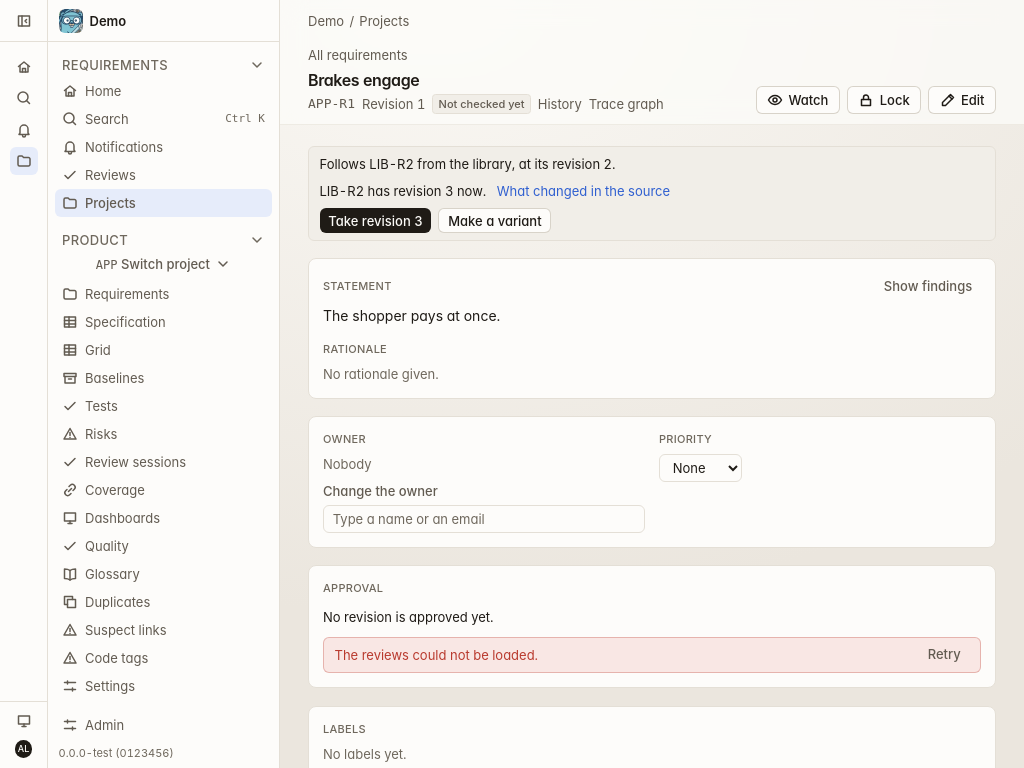
a reused requirement › is edited without its words while it follows, and made a variant to change them
The width and height of the screenshot is (1024, 768).
Click the button "Edit" at (962, 100), box x1=928 y1=86 x2=996 y2=114
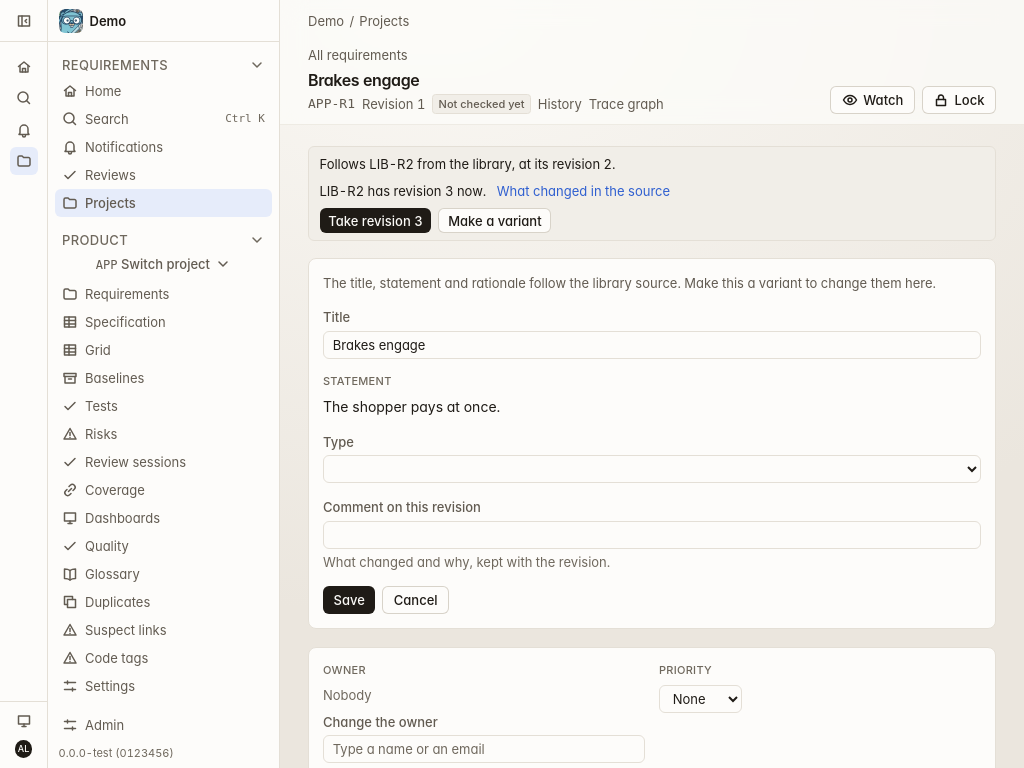
Result: the text "follow the library source" is shown at x1=323 y1=275 x2=936 y2=291
Click the button "Cancel" at (416, 600), box x1=382 y1=586 x2=449 y2=614
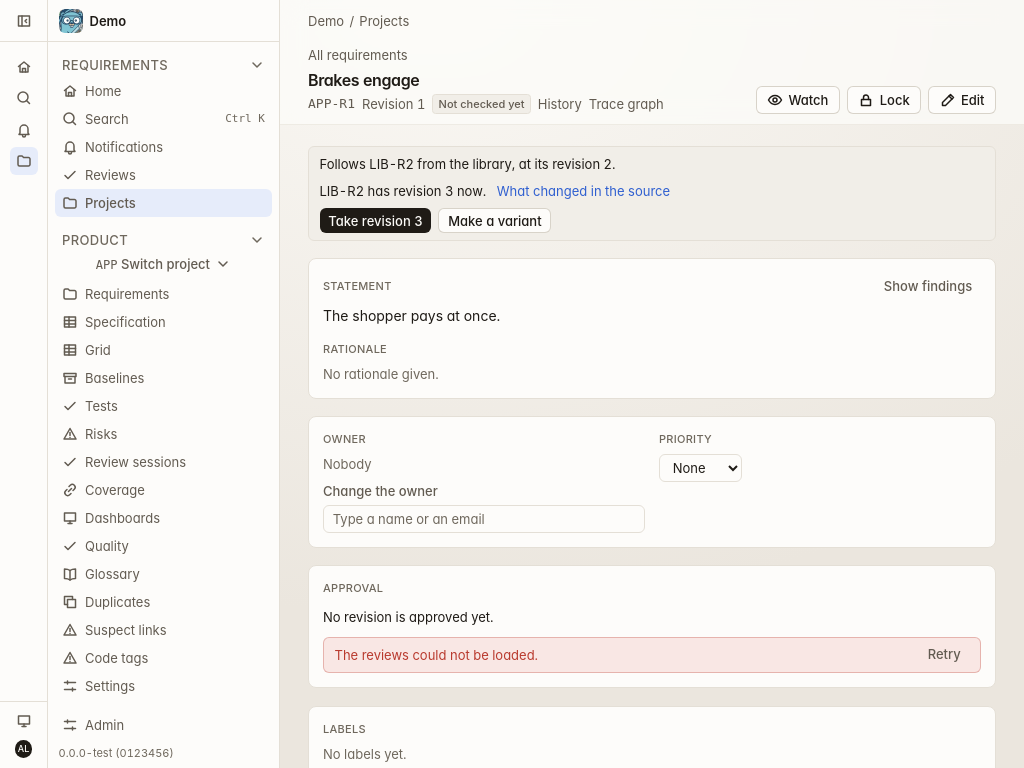
Click the button "Make a variant" at (495, 221), box x1=438 y1=208 x2=551 y2=233
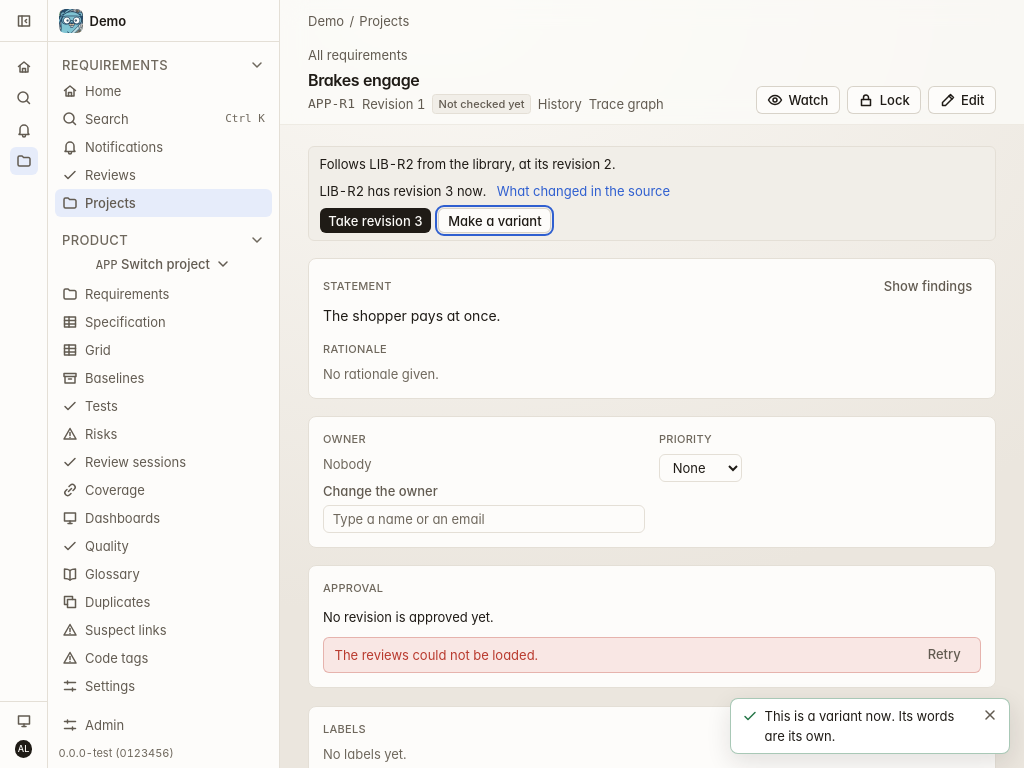
Result: the text "This is a variant now. Its words are its own." is shown at x1=764 y1=706 x2=970 y2=746
